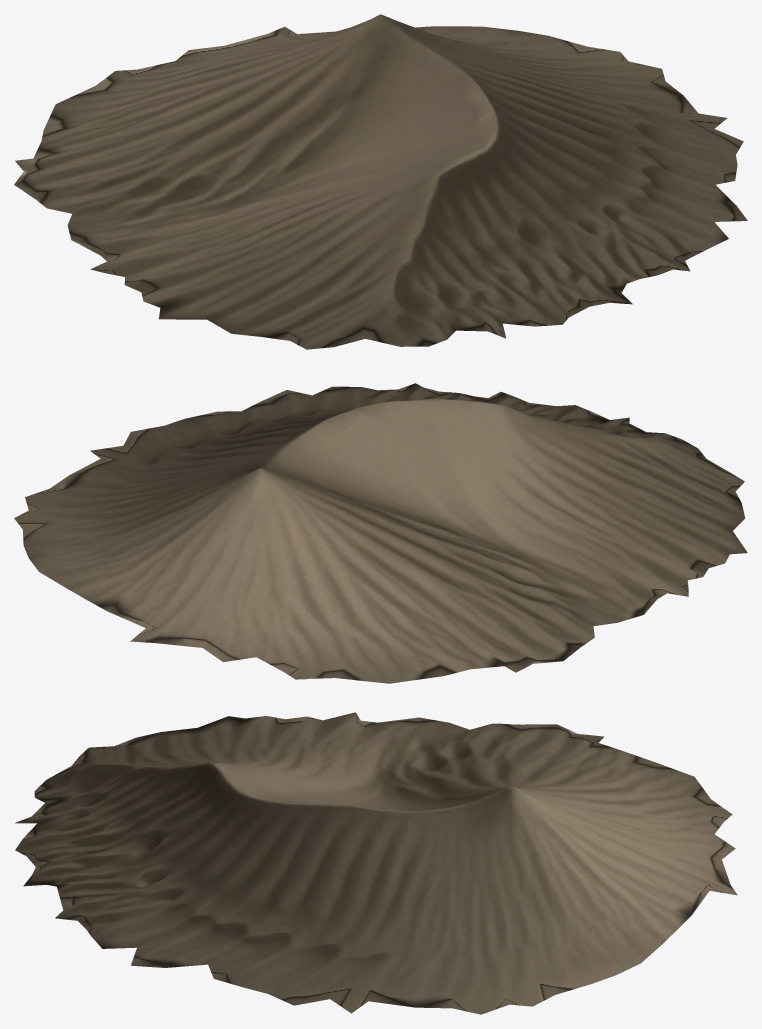
Rendered from desert-hill-1.glb.
3 views of the same model, one above another, from view 1: azimuth 30°, elevation 25°; view 2: azimuth 150°, elevation 25°; view 3: azimuth 270°, elevation 25° (orthographic). The views are drawn at different scales.
Visible parts, largest first — view 1: geometry_0; view 2: geometry_0; view 3: geometry_0.
Part boxes in pixels (x1,y1,x2,y2): geometry_0: (14,14,747,349); geometry_0: (14,383,747,683); geometry_0: (15,712,737,1014).
Size of the model in its own units: 0.9407 by 0.1515 by 0.9723.
1 material, 1 textured.
